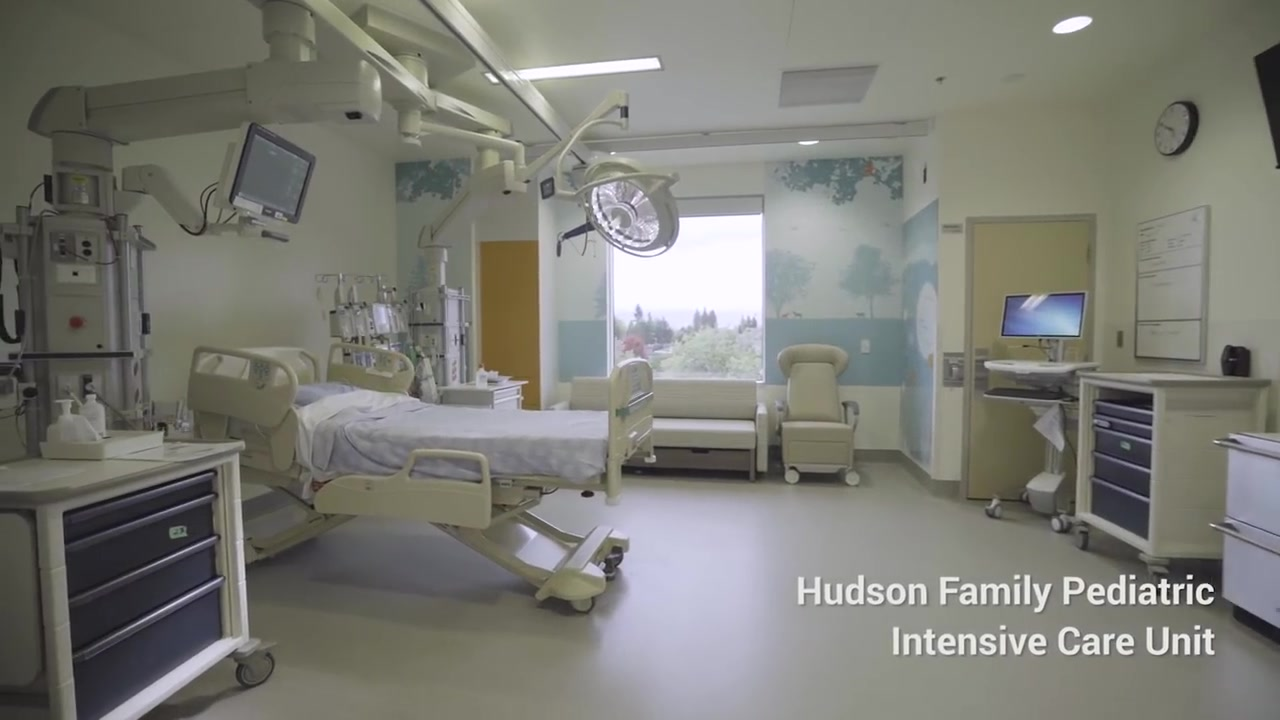bedrail: (313, 448, 492, 530), (187, 345, 298, 429), (327, 343, 414, 393)
bedside_monitor: (233, 126, 314, 226)
chair: (775, 343, 860, 486)
computer: (999, 290, 1089, 339)
dispenser: (47, 398, 84, 451)
door_handle: (974, 348, 988, 391)
foot_board: (607, 357, 655, 506)
hospital_bed: (187, 343, 656, 614)
iv_pole: (314, 272, 364, 362), (356, 273, 390, 344)
keyboard: (986, 388, 1066, 400)
light_switch: (860, 339, 870, 355)
medical_drawer: (8, 452, 283, 715), (1072, 370, 1273, 596), (1208, 432, 1280, 631), (437, 381, 529, 409)
mouse: (1062, 395, 1075, 401)
sofa: (546, 376, 768, 482)
surgical_light: (581, 156, 679, 258)
